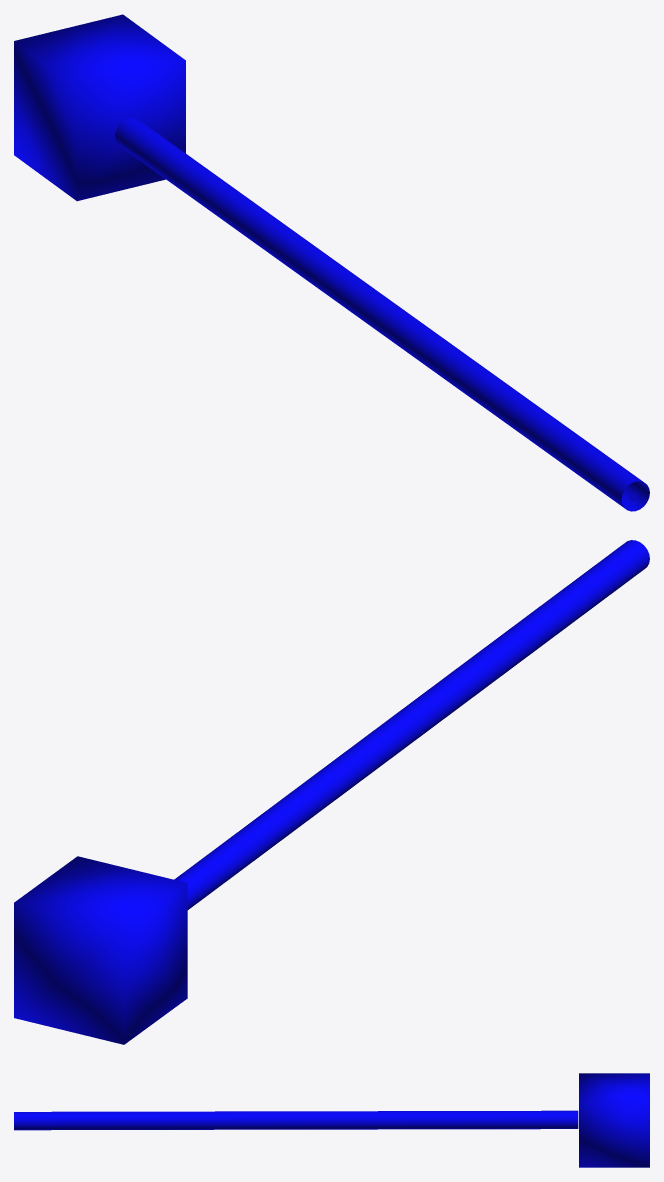
File: zScale.obj
3 renders of one model, top to bottom at view 1: azimuth 30°, elevation 25°; view 2: azimuth 150°, elevation 25°; view 3: azimuth 270°, elevation 25°, orthographic. The views are drawn at different scales.
Bounding box in the file's own units: 8.97 × 8.97 × 80.36.
